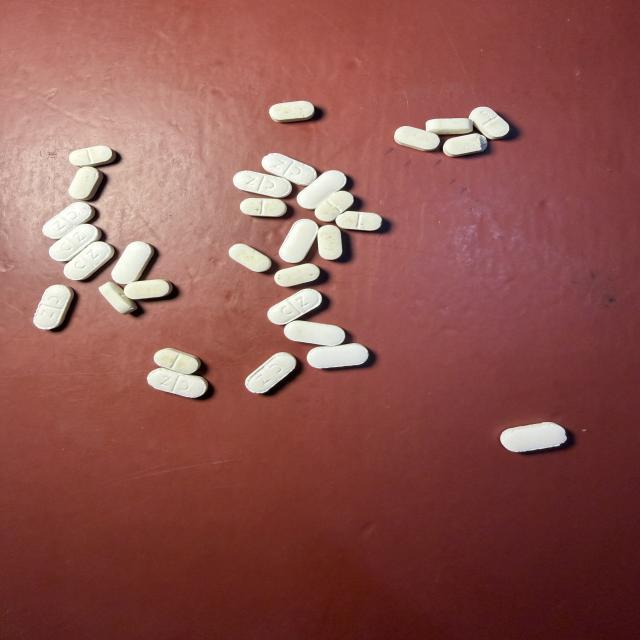pill: (246, 353, 296, 393), (501, 422, 566, 452), (64, 241, 114, 280), (49, 224, 101, 261), (297, 170, 346, 209), (43, 202, 94, 239), (268, 289, 321, 324), (147, 368, 208, 398), (112, 241, 154, 284), (34, 285, 74, 329), (262, 153, 316, 185), (279, 219, 318, 263), (233, 171, 292, 197), (284, 321, 345, 345), (307, 344, 368, 368), (470, 107, 509, 139), (154, 348, 201, 374), (99, 282, 137, 314), (315, 191, 353, 222), (229, 244, 271, 272), (69, 167, 103, 200), (395, 127, 439, 151), (443, 134, 487, 156), (275, 264, 319, 286), (269, 101, 314, 122), (69, 146, 115, 166), (336, 211, 382, 231), (125, 280, 172, 299), (240, 198, 286, 216), (318, 225, 342, 259), (426, 119, 473, 135)
